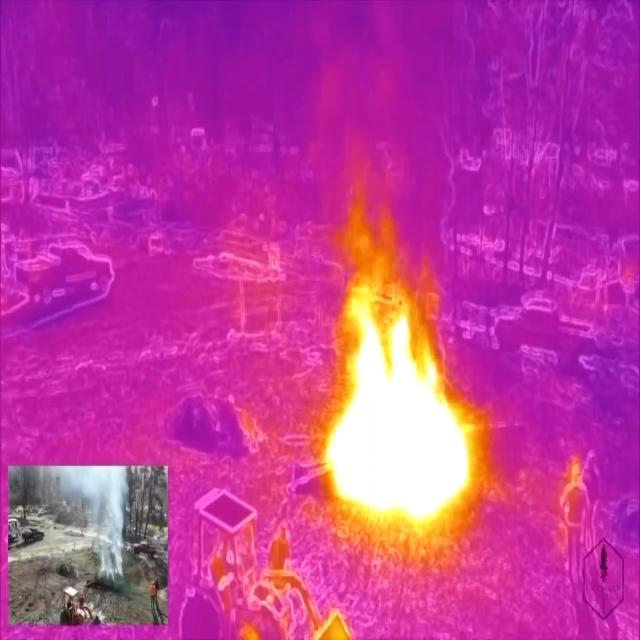fire: (327, 284, 473, 531)
